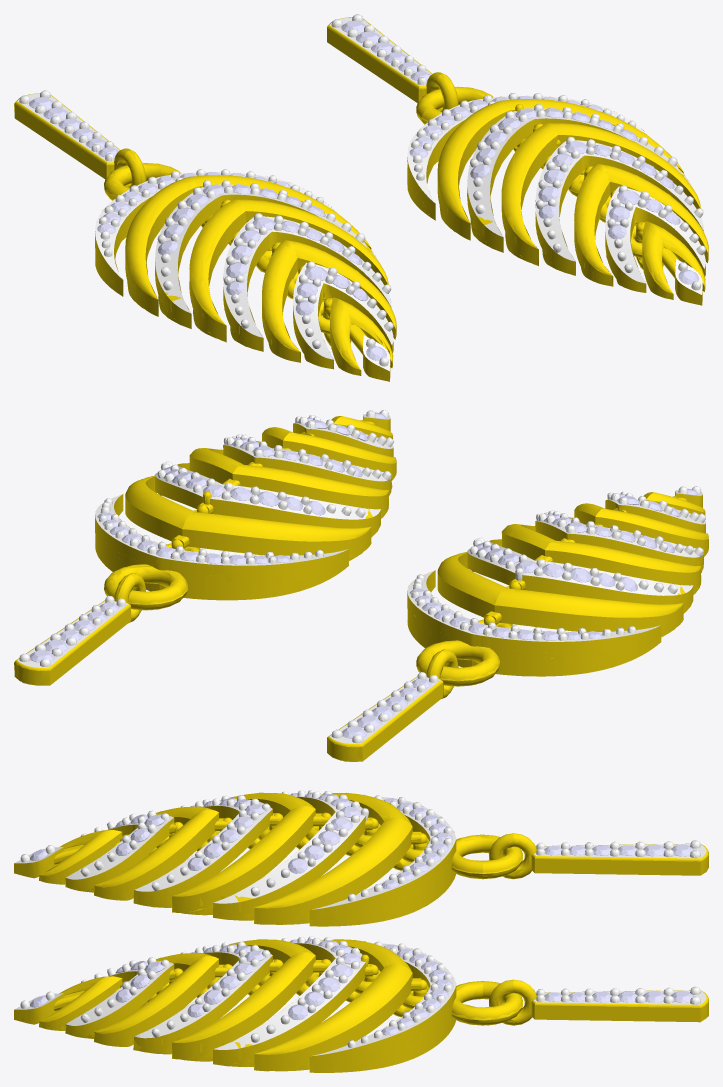
The picture shows the model from 3 angles, top to bottom: view 1: azimuth 30°, elevation 25°; view 2: azimuth 150°, elevation 25°; view 3: azimuth 270°, elevation 25°; orthographic projection. The views are drawn at different scales.
Visible parts, largest first — view 1: highPolyMesh, lowPolyMesh; view 2: highPolyMesh, lowPolyMesh; view 3: highPolyMesh, lowPolyMesh.
Part boxes in pixels (left/top/right/bottom): highPolyMesh: left=15, top=14, right=708, bottom=381; lowPolyMesh: left=14, top=15, right=708, bottom=381; highPolyMesh: left=14, top=410, right=708, bottom=761; lowPolyMesh: left=14, top=410, right=708, bottom=761; highPolyMesh: left=14, top=790, right=708, bottom=1072; lowPolyMesh: left=14, top=790, right=708, bottom=1072.
Bounding box in the file's own units: 0.0266 × 0.00368 × 0.031.
